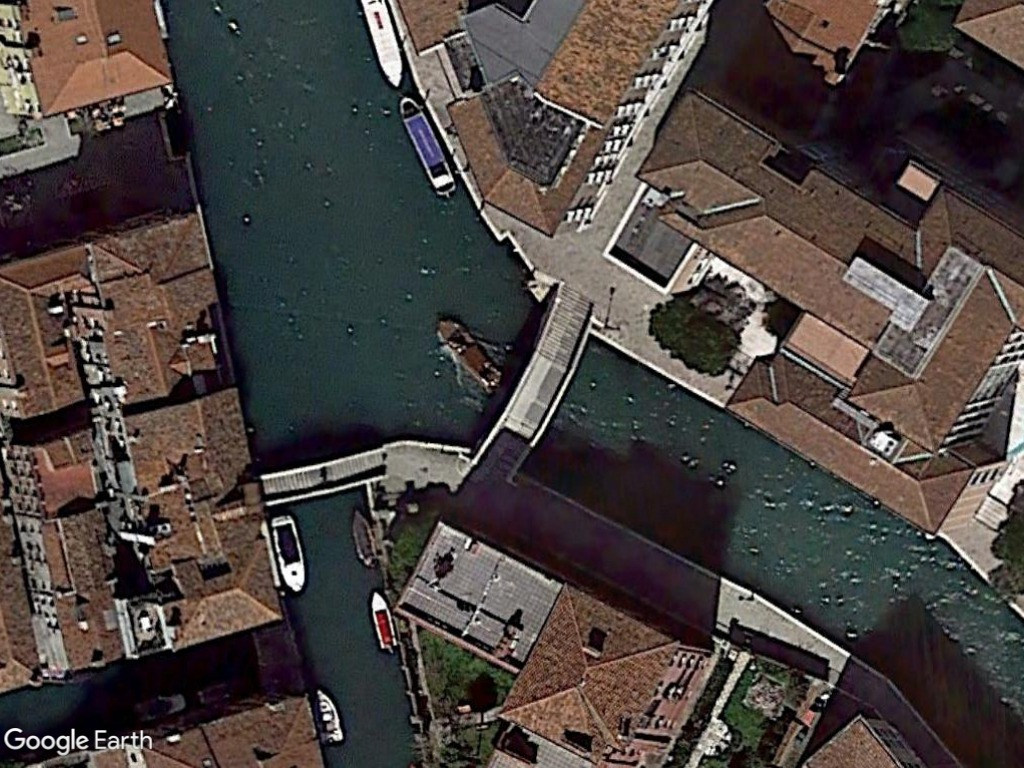boat: (392, 91, 460, 198), (359, 0, 406, 93), (267, 513, 309, 596), (368, 586, 400, 657), (310, 687, 347, 747)
